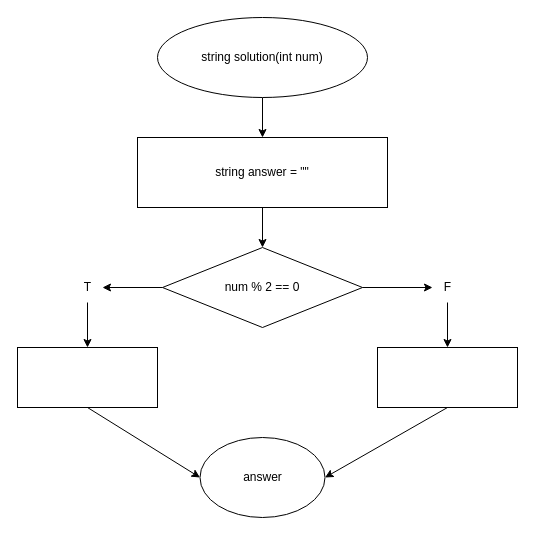
Image size: 535x535. Some labels were removed from this diagram. Each missing label, with the centre of its shape:
answer = "Even": the point at 87,377
answer = "Odd": the point at 447,377
